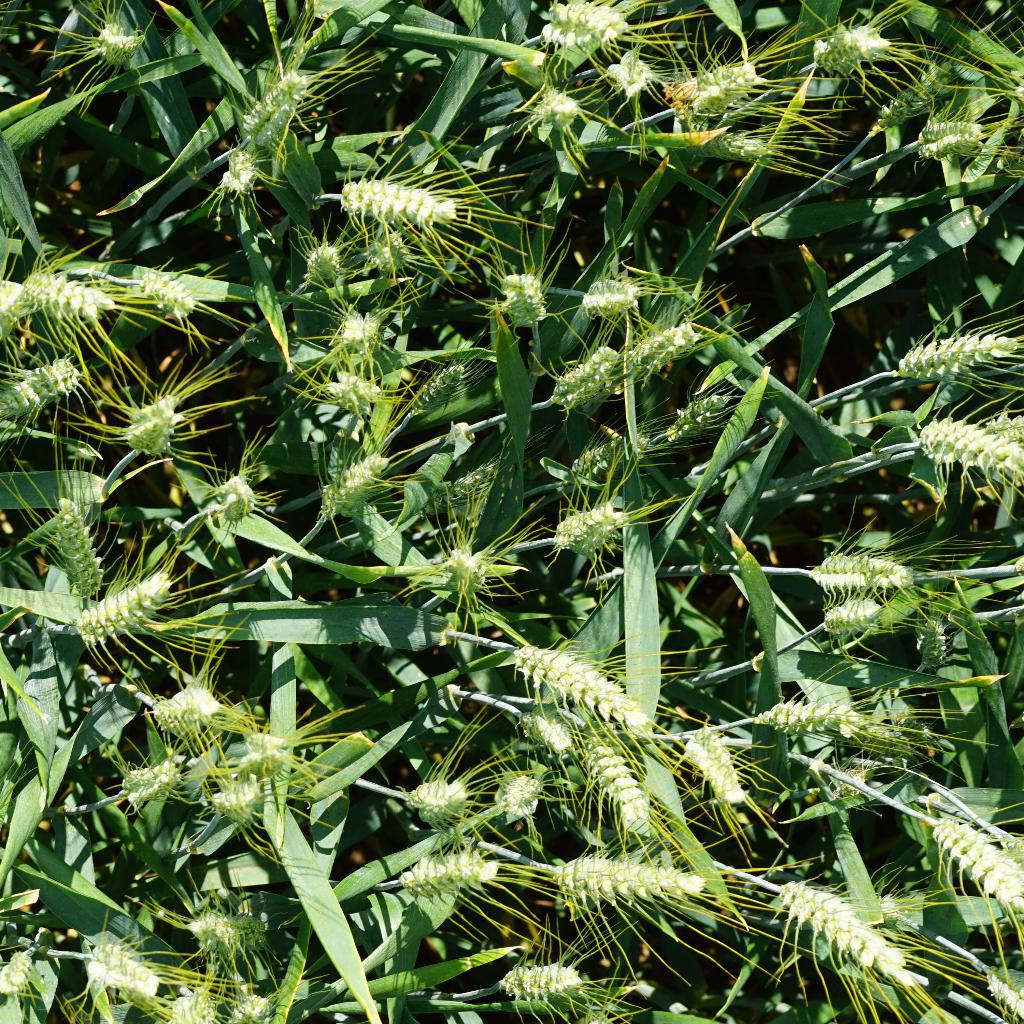0-0: (768, 867, 923, 993), (499, 630, 657, 727), (557, 710, 666, 836), (27, 564, 180, 651), (546, 847, 716, 919), (912, 818, 1024, 925), (897, 320, 1024, 399), (752, 684, 892, 748), (911, 402, 1024, 479), (332, 170, 470, 232), (44, 488, 112, 612), (227, 58, 307, 160), (795, 538, 922, 602), (598, 318, 697, 396), (18, 272, 112, 351), (73, 930, 164, 1011), (673, 52, 774, 123), (411, 453, 514, 520), (404, 837, 508, 901), (0, 358, 101, 423), (182, 893, 269, 968), (645, 381, 738, 451), (684, 720, 755, 811), (179, 466, 276, 531), (109, 396, 206, 460), (309, 447, 393, 520), (870, 56, 948, 134), (799, 15, 894, 79), (144, 676, 239, 739), (116, 253, 208, 318), (679, 118, 791, 168), (539, 499, 634, 557), (907, 114, 1009, 168), (499, 955, 606, 1006), (363, 223, 429, 301), (565, 428, 641, 494), (538, 0, 626, 56), (82, 7, 155, 74), (550, 333, 616, 406), (479, 761, 545, 826), (324, 301, 393, 363), (402, 359, 470, 421), (817, 587, 893, 641), (492, 266, 555, 329), (523, 84, 589, 144), (440, 526, 497, 595), (572, 268, 645, 321), (291, 234, 352, 295), (206, 144, 271, 201), (842, 885, 920, 932), (404, 772, 471, 826), (200, 778, 273, 826), (324, 366, 385, 422), (602, 49, 660, 107), (908, 606, 961, 668), (115, 758, 185, 804), (240, 727, 302, 777), (857, 720, 921, 765), (512, 706, 576, 750), (886, 707, 934, 751), (829, 762, 877, 806)
